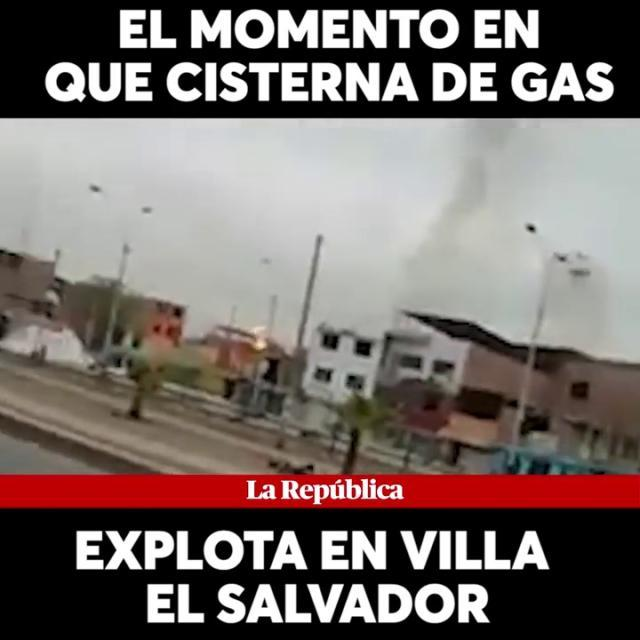Smoke: (374, 118, 638, 336)
